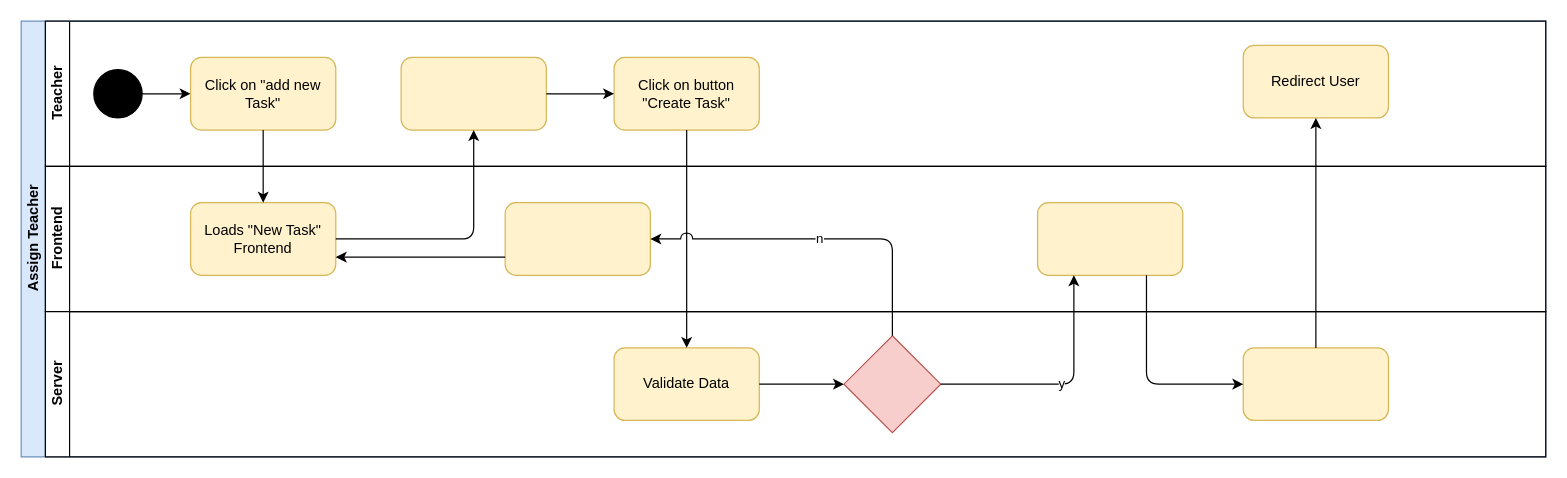
Some shapes in this 1567 by 478 pixel diagram are drawn without their labels. Each missing label, with the centre of its shape:
"Data is valid" goes at (892,384).
"Insert Data" goes at (473,93).
"Replcae to Database" goes at (1315,383).
"Show Error Message" goes at (577,238).
"Show success Message" goes at (1109,238).
